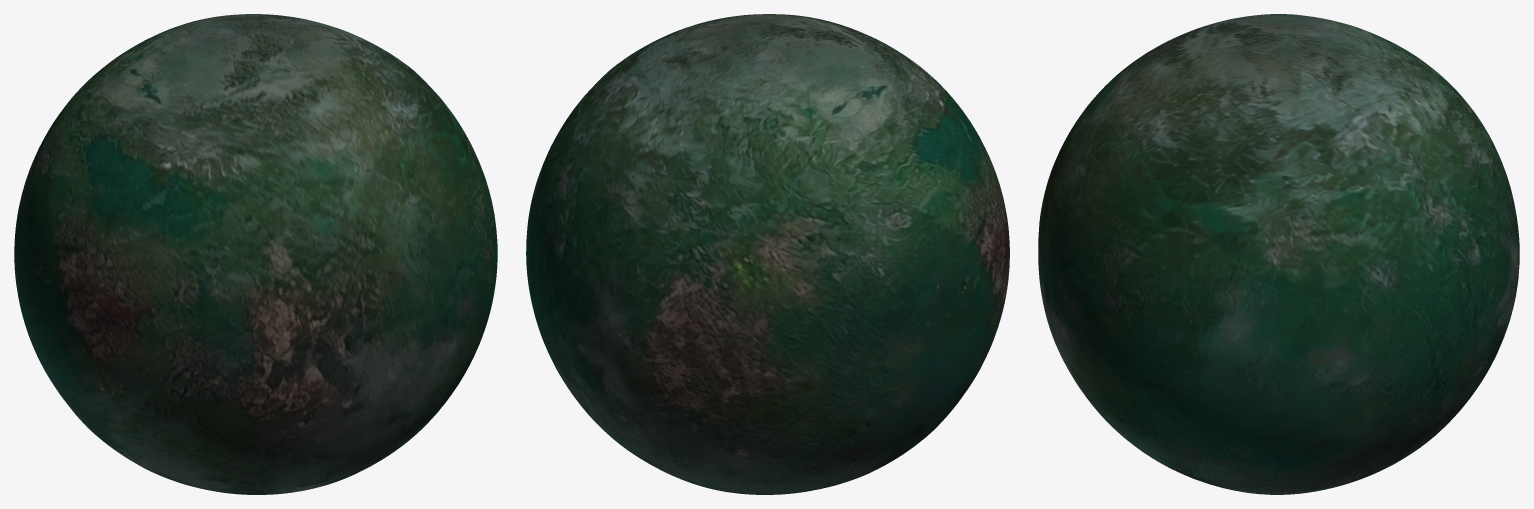
Rendered from planetaSelvatico.obj.
The picture shows the model from 3 angles, left to right: view 1: azimuth 30°, elevation 25°; view 2: azimuth 150°, elevation 25°; view 3: azimuth 270°, elevation 25°; orthographic projection.
Visible parts, largest first — view 1: planetaSelvatico; view 2: planetaSelvatico; view 3: planetaSelvatico.
Boxes of the visible parts, box(x1,y1,x2,y2) form: planetaSelvatico: box(14, 14, 497, 494); planetaSelvatico: box(526, 14, 1009, 494); planetaSelvatico: box(1038, 14, 1519, 494).
Bounding box in the file's own units: 19.64 × 19.56 × 19.6.
